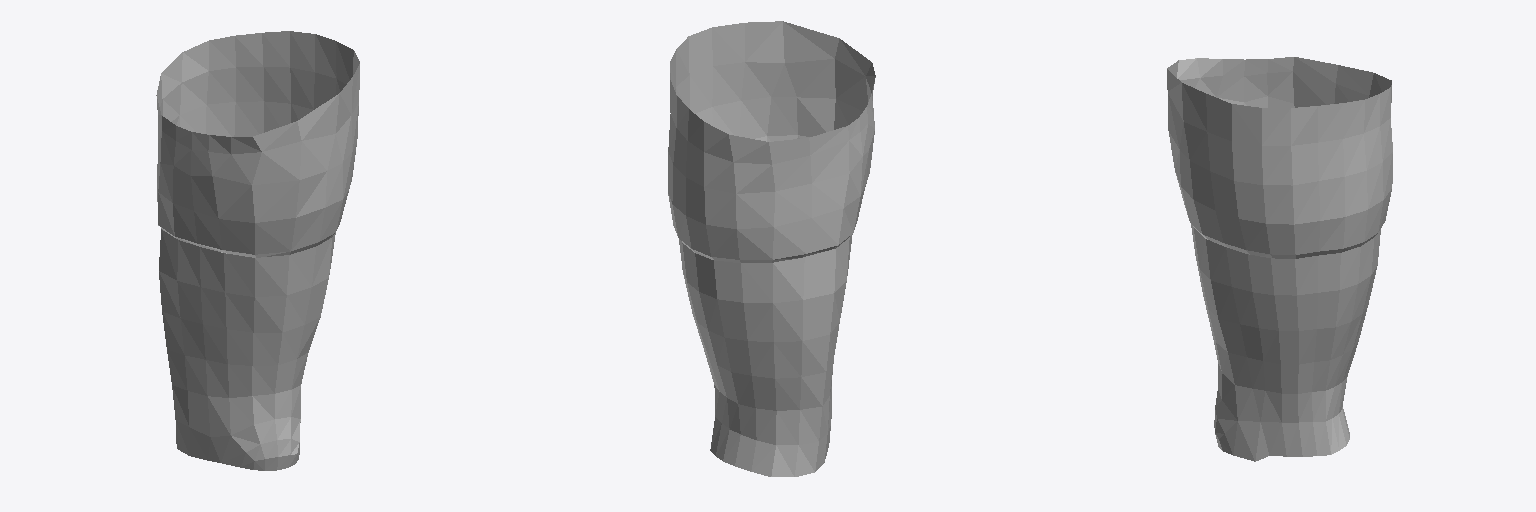
Rendered from Koharu_Pierna_1.obj.
The picture shows the model from 3 angles: view 1: azimuth 30°, elevation 25°; view 2: azimuth 150°, elevation 25°; view 3: azimuth 270°, elevation 25°; orthographic projection.
Parts seen in each view (by area): view 1: Pierna_1_Body_큐브.007; view 2: Pierna_1_Body_큐브.007; view 3: Pierna_1_Body_큐브.007.
Part boxes in pixels (x1,y1,x2,y2): Pierna_1_Body_큐브.007: (156, 31, 359, 470); Pierna_1_Body_큐브.007: (668, 21, 875, 476); Pierna_1_Body_큐브.007: (1167, 57, 1392, 461).
Bounding box in the file's own units: 0.1099 × 0.2272 × 0.1215.